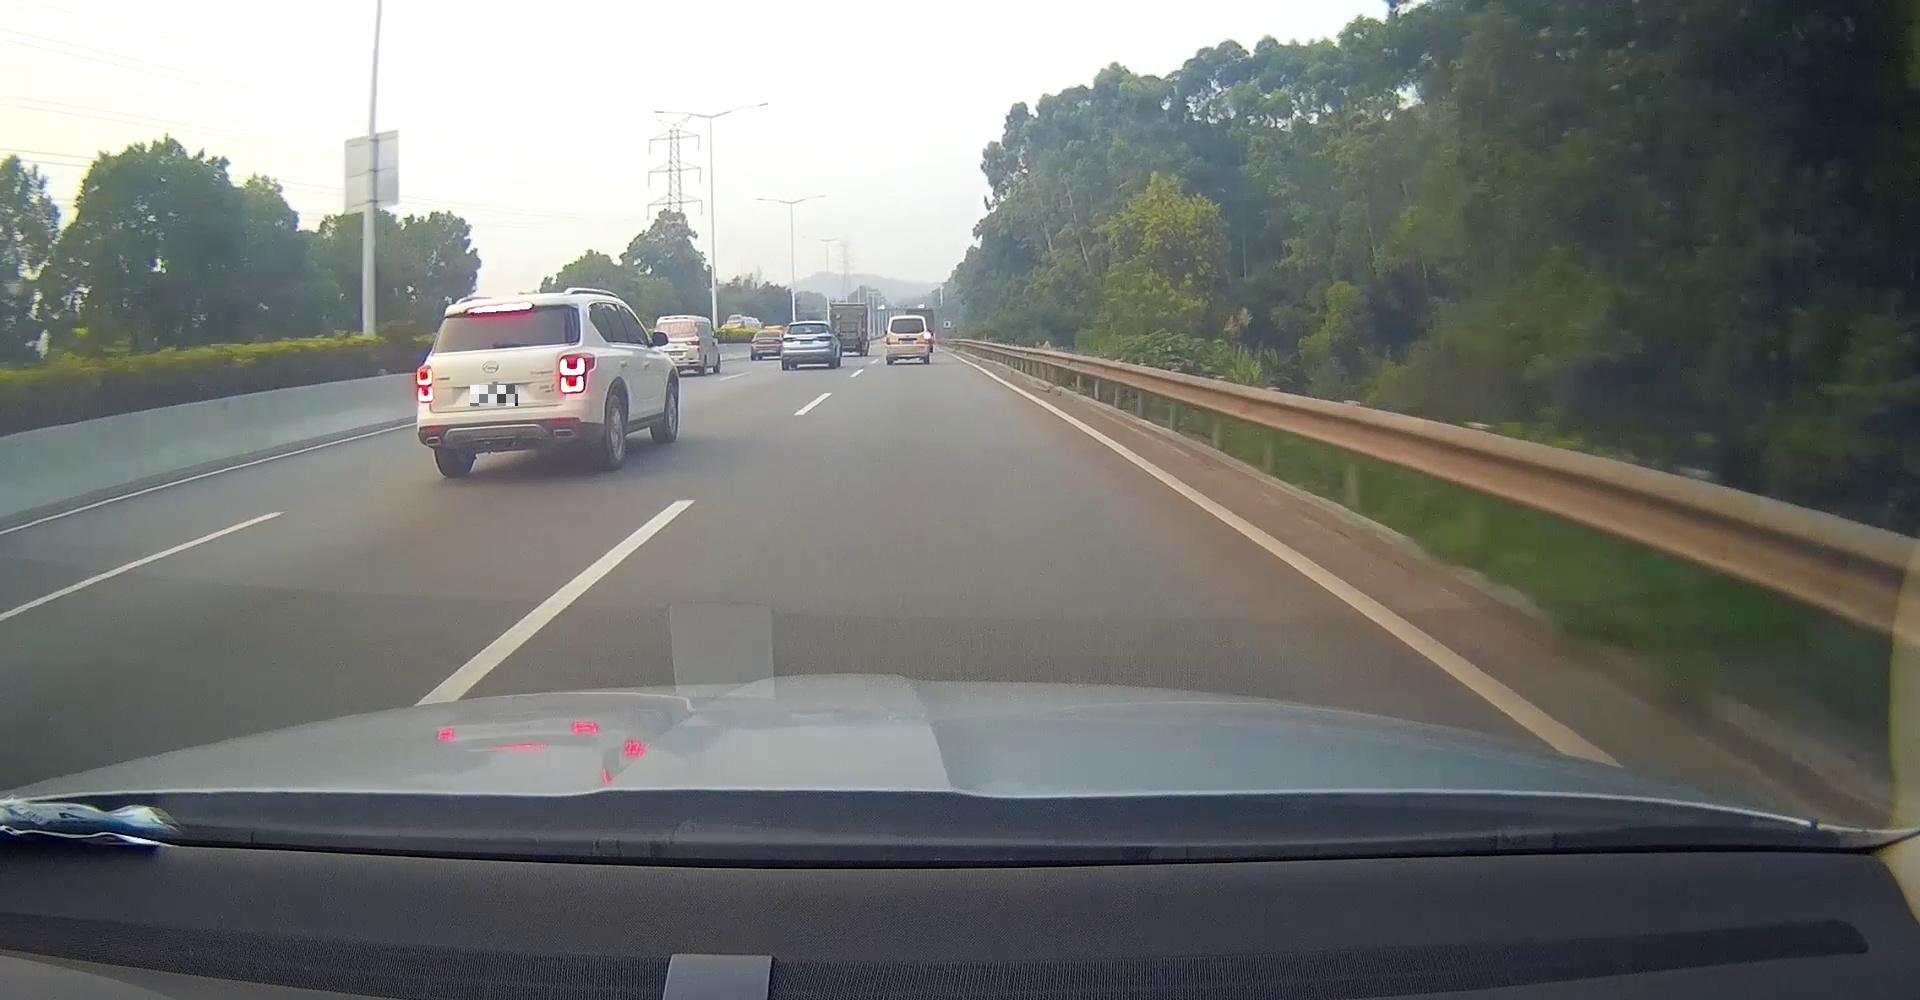L_light: (417, 365, 434, 404)
R_light: (559, 352, 596, 393)
T_light: (463, 302, 533, 313)
day-brake: (417, 293, 602, 477)
plate_1: (470, 385, 518, 406)
